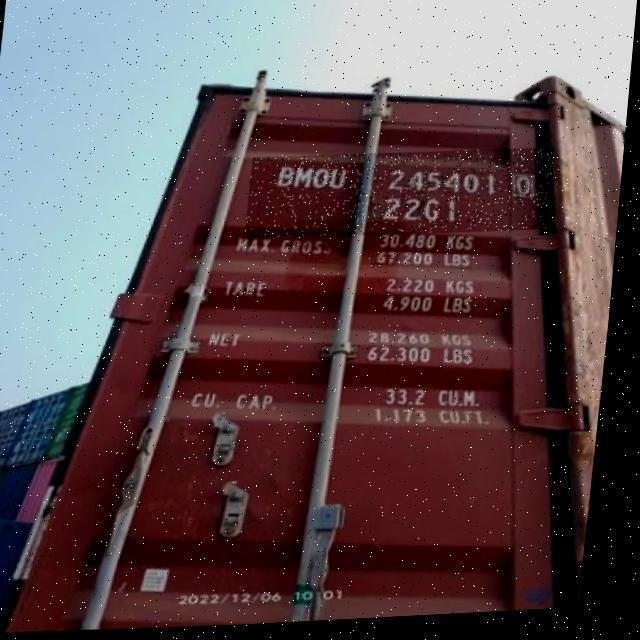ISO: (380, 197, 460, 223)
container_number: (272, 158, 539, 202)
